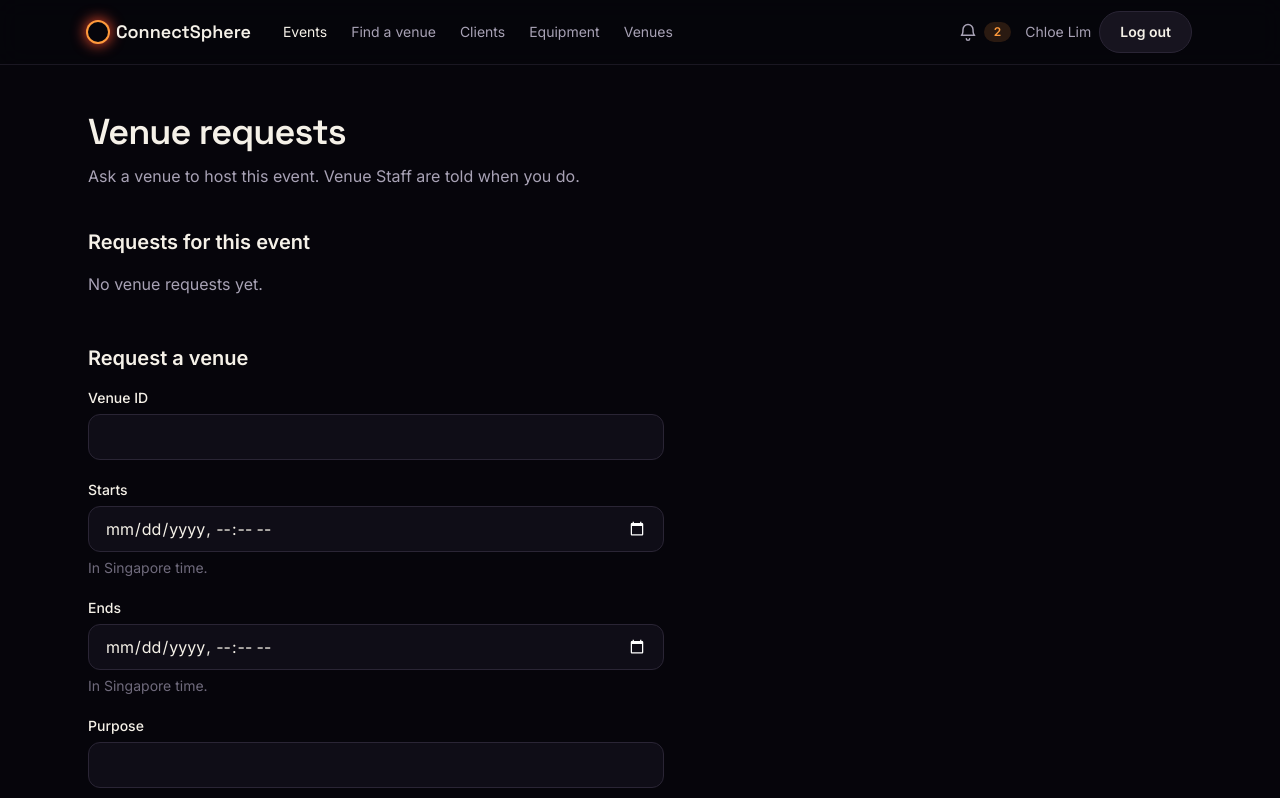
SCRUM-42 venue requests page › shows the backend message when the event is not approved
In the number field labelled "Venue ID": (376, 437) [88, 414, 664, 460], type "1"
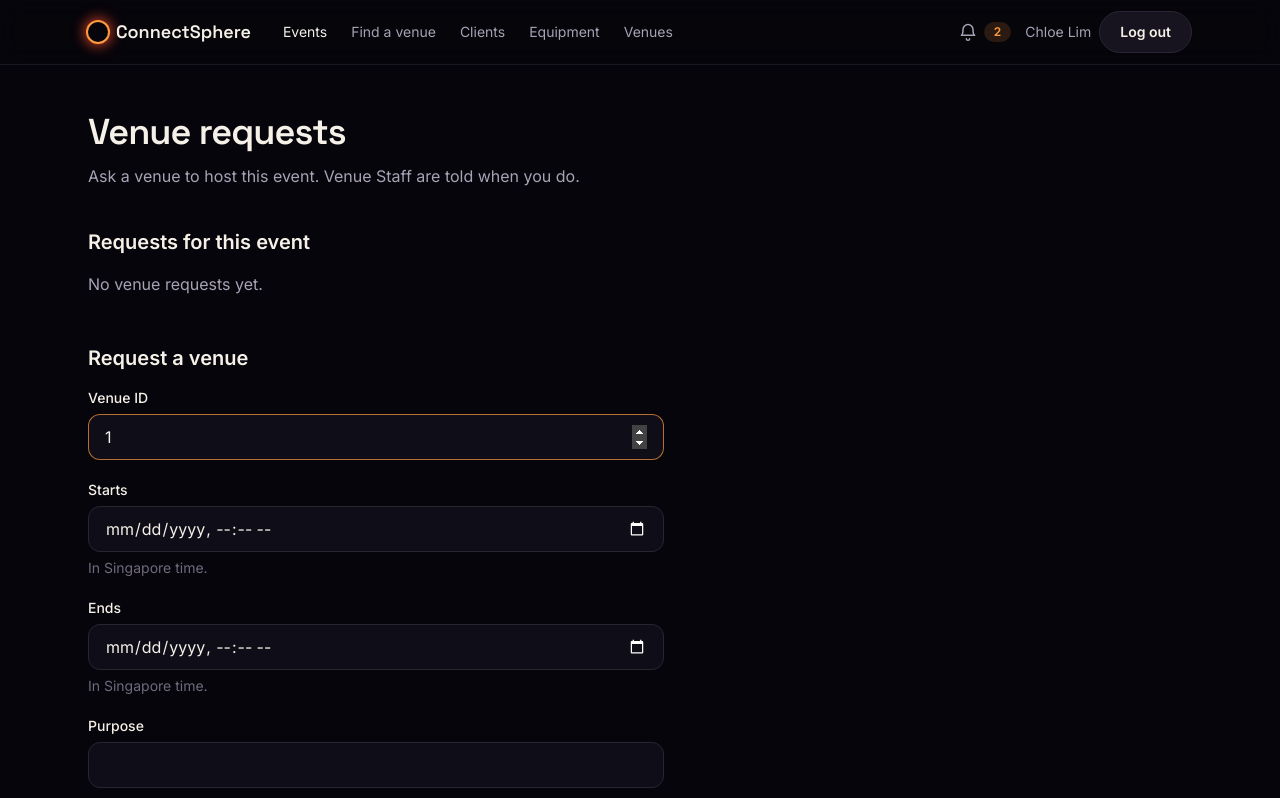
In the field labelled "Starts": (376, 529) [88, 506, 664, 552], type "2026-11-10T09:00"
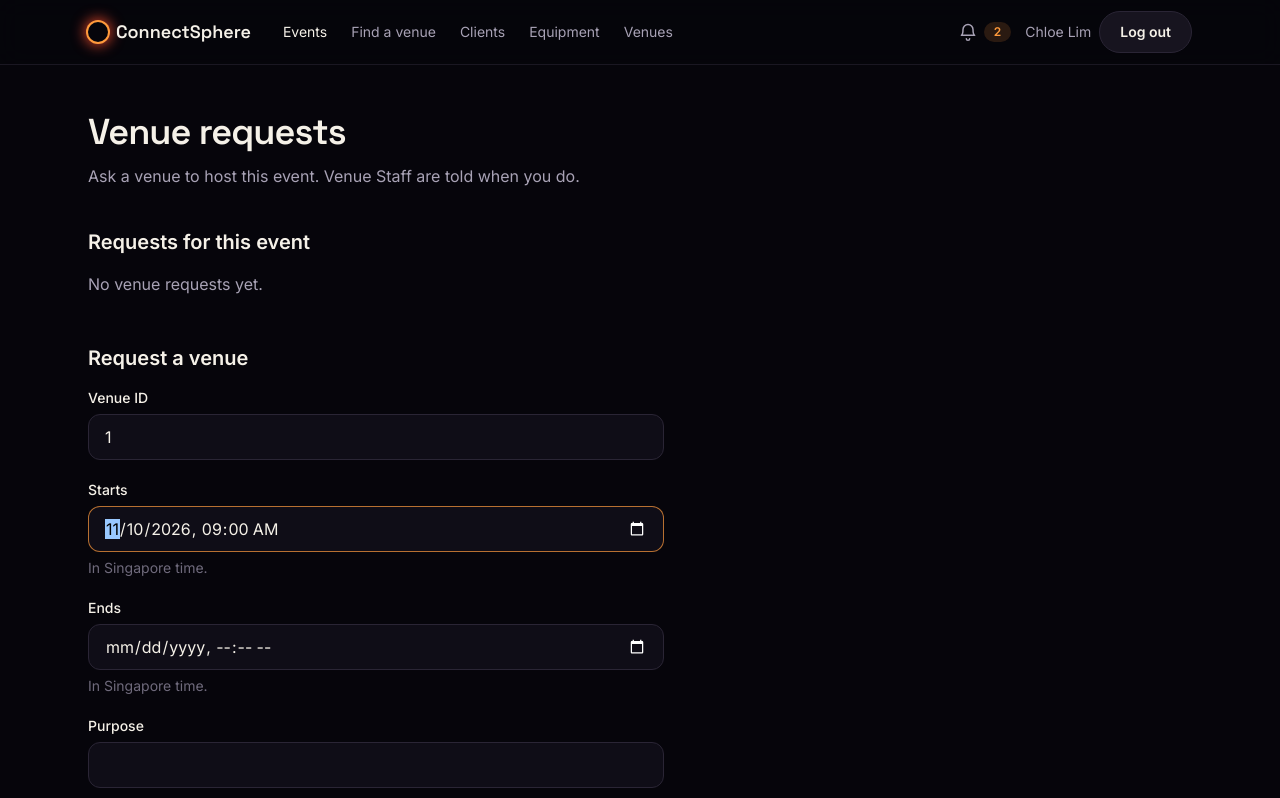
In the field labelled "Ends": (376, 647) [88, 624, 664, 670], type "2026-11-10T12:00"
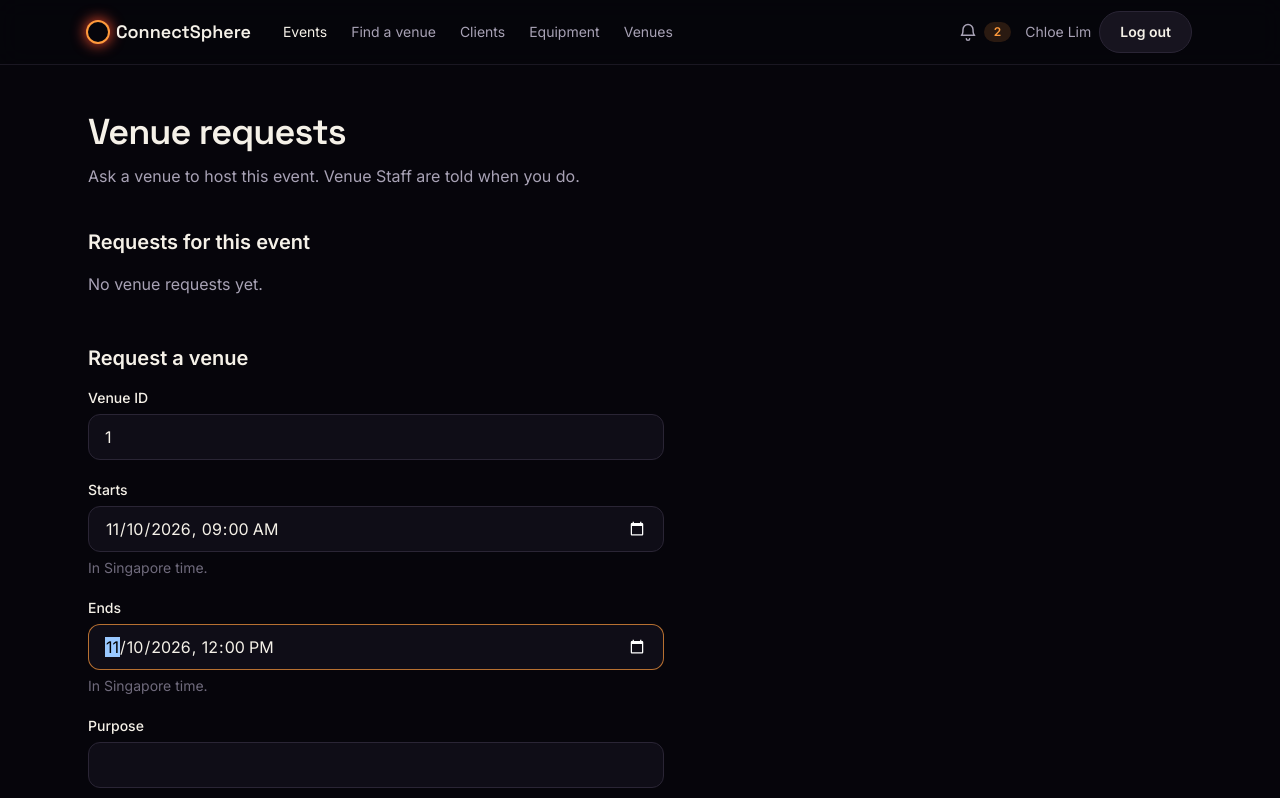
In the field labelled "Purpose": (376, 765) [88, 742, 664, 788], type "Keynote"
(page scrolled)
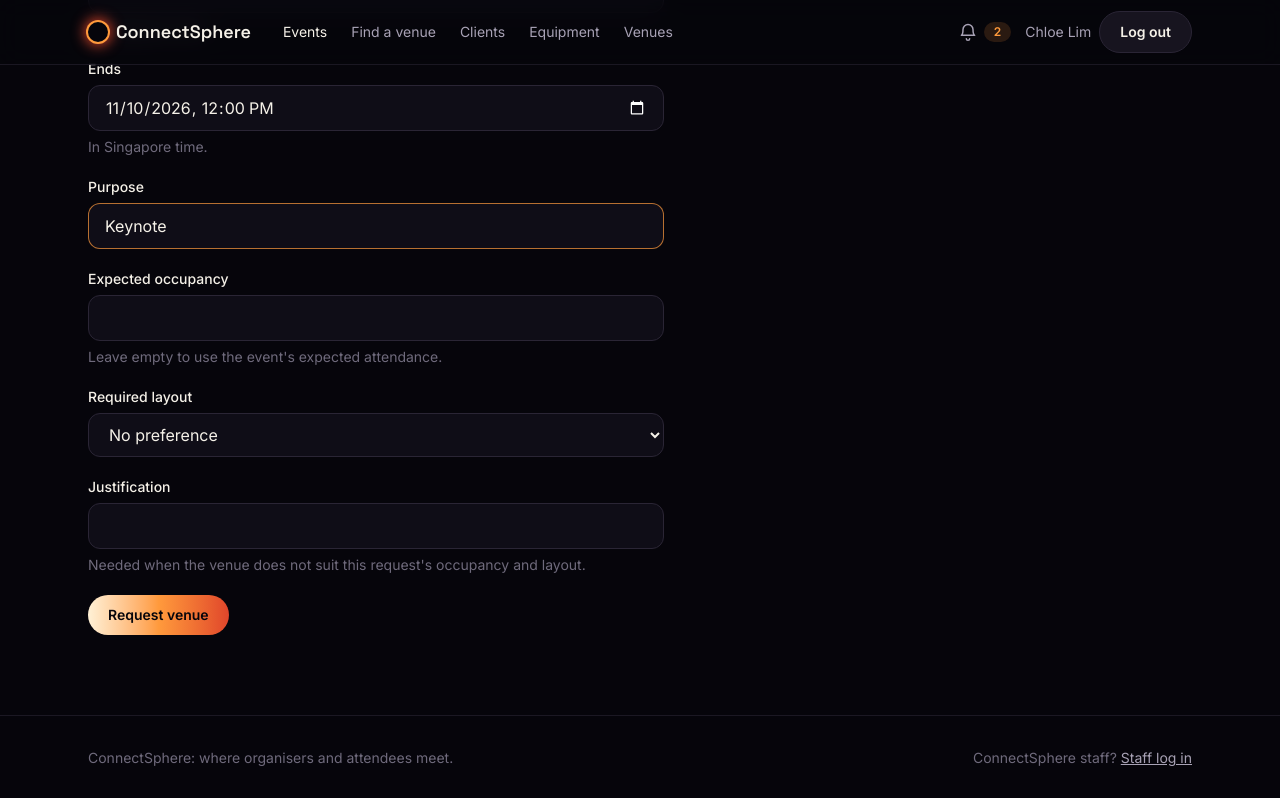
Click the button "Request venue": (158, 615) [88, 595, 229, 635]
(page scrolled)
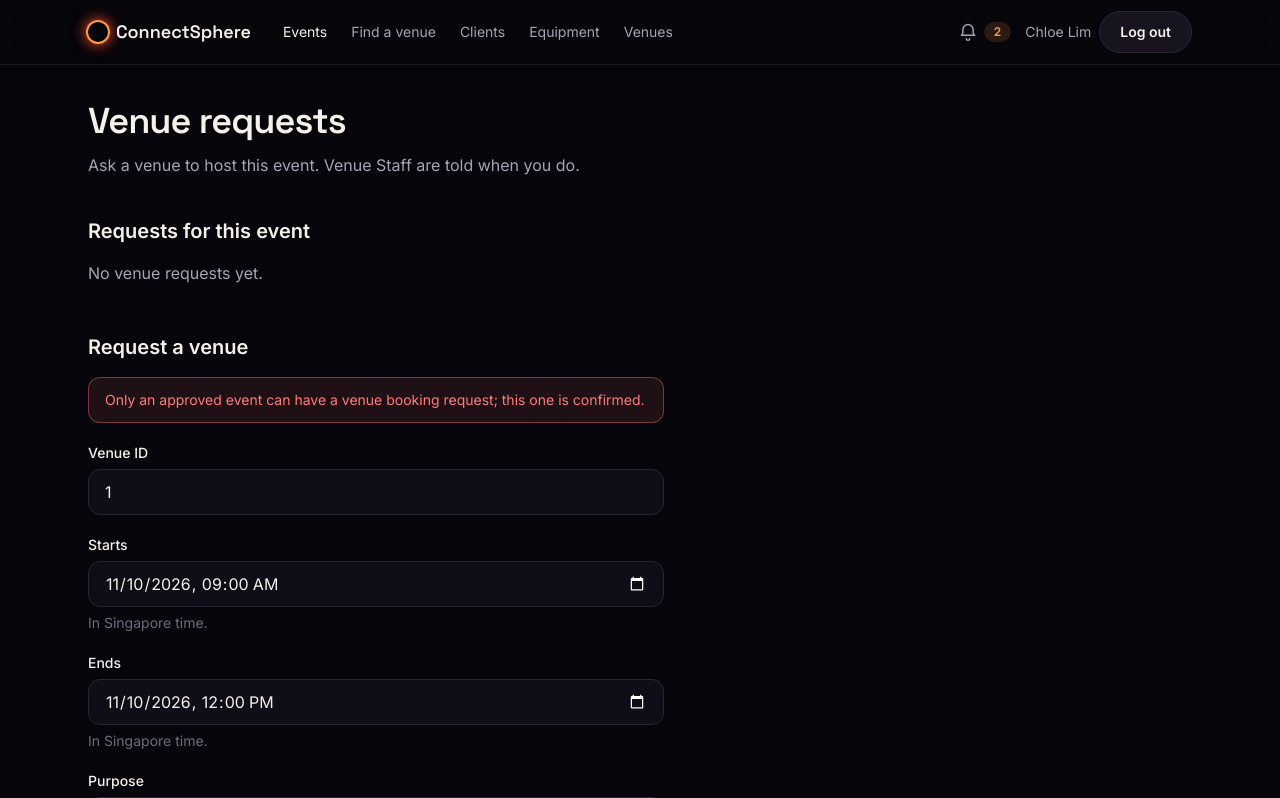
Expected: the message reads "Only an approved event can have a venue booking request; this one is confirmed.", [105, 391, 645, 408]
